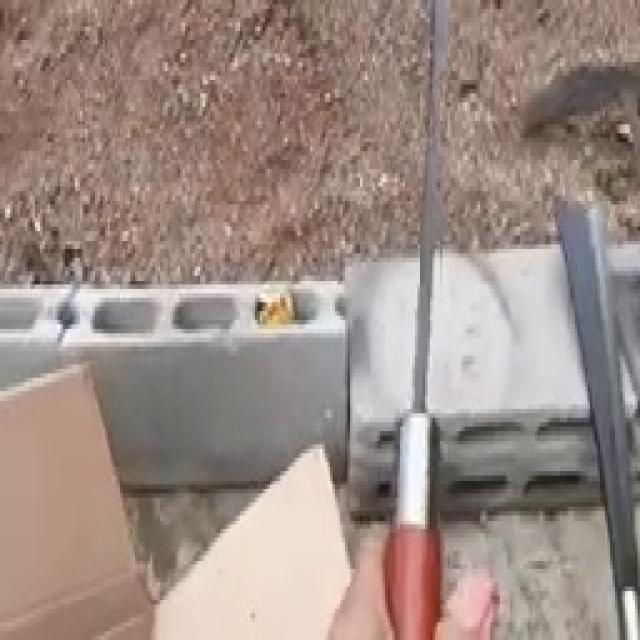eto: (396, 5, 447, 637)
